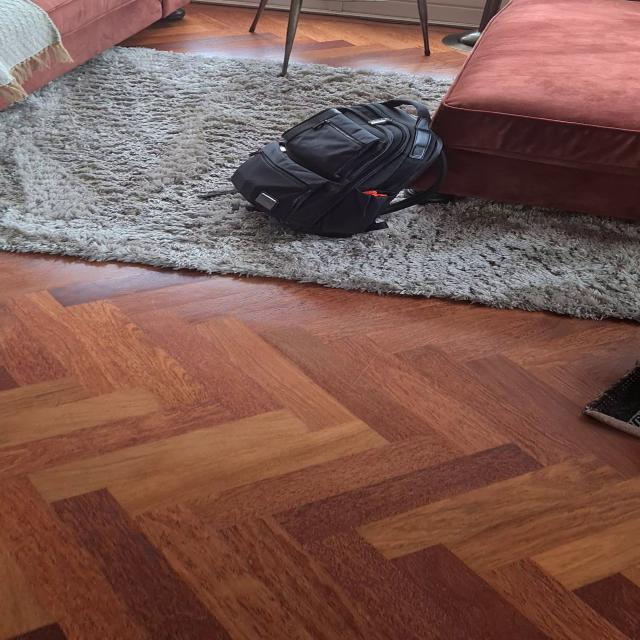backpack: (222, 93, 458, 243)
